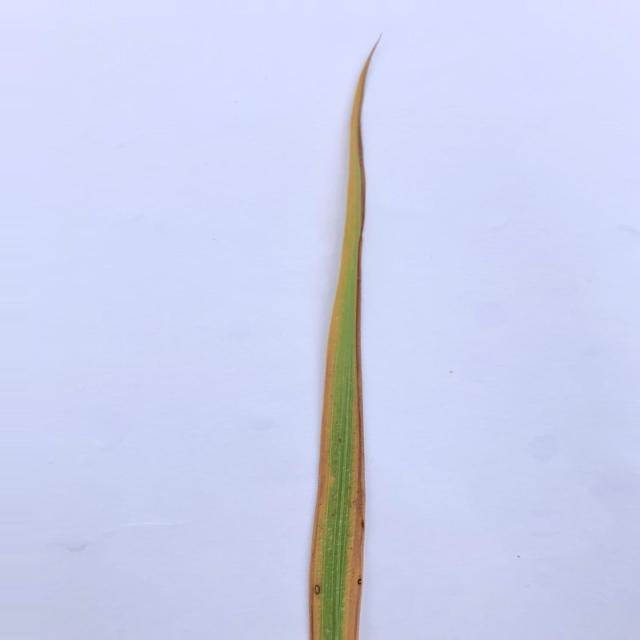Rice Tungro: (310, 44, 377, 639)
